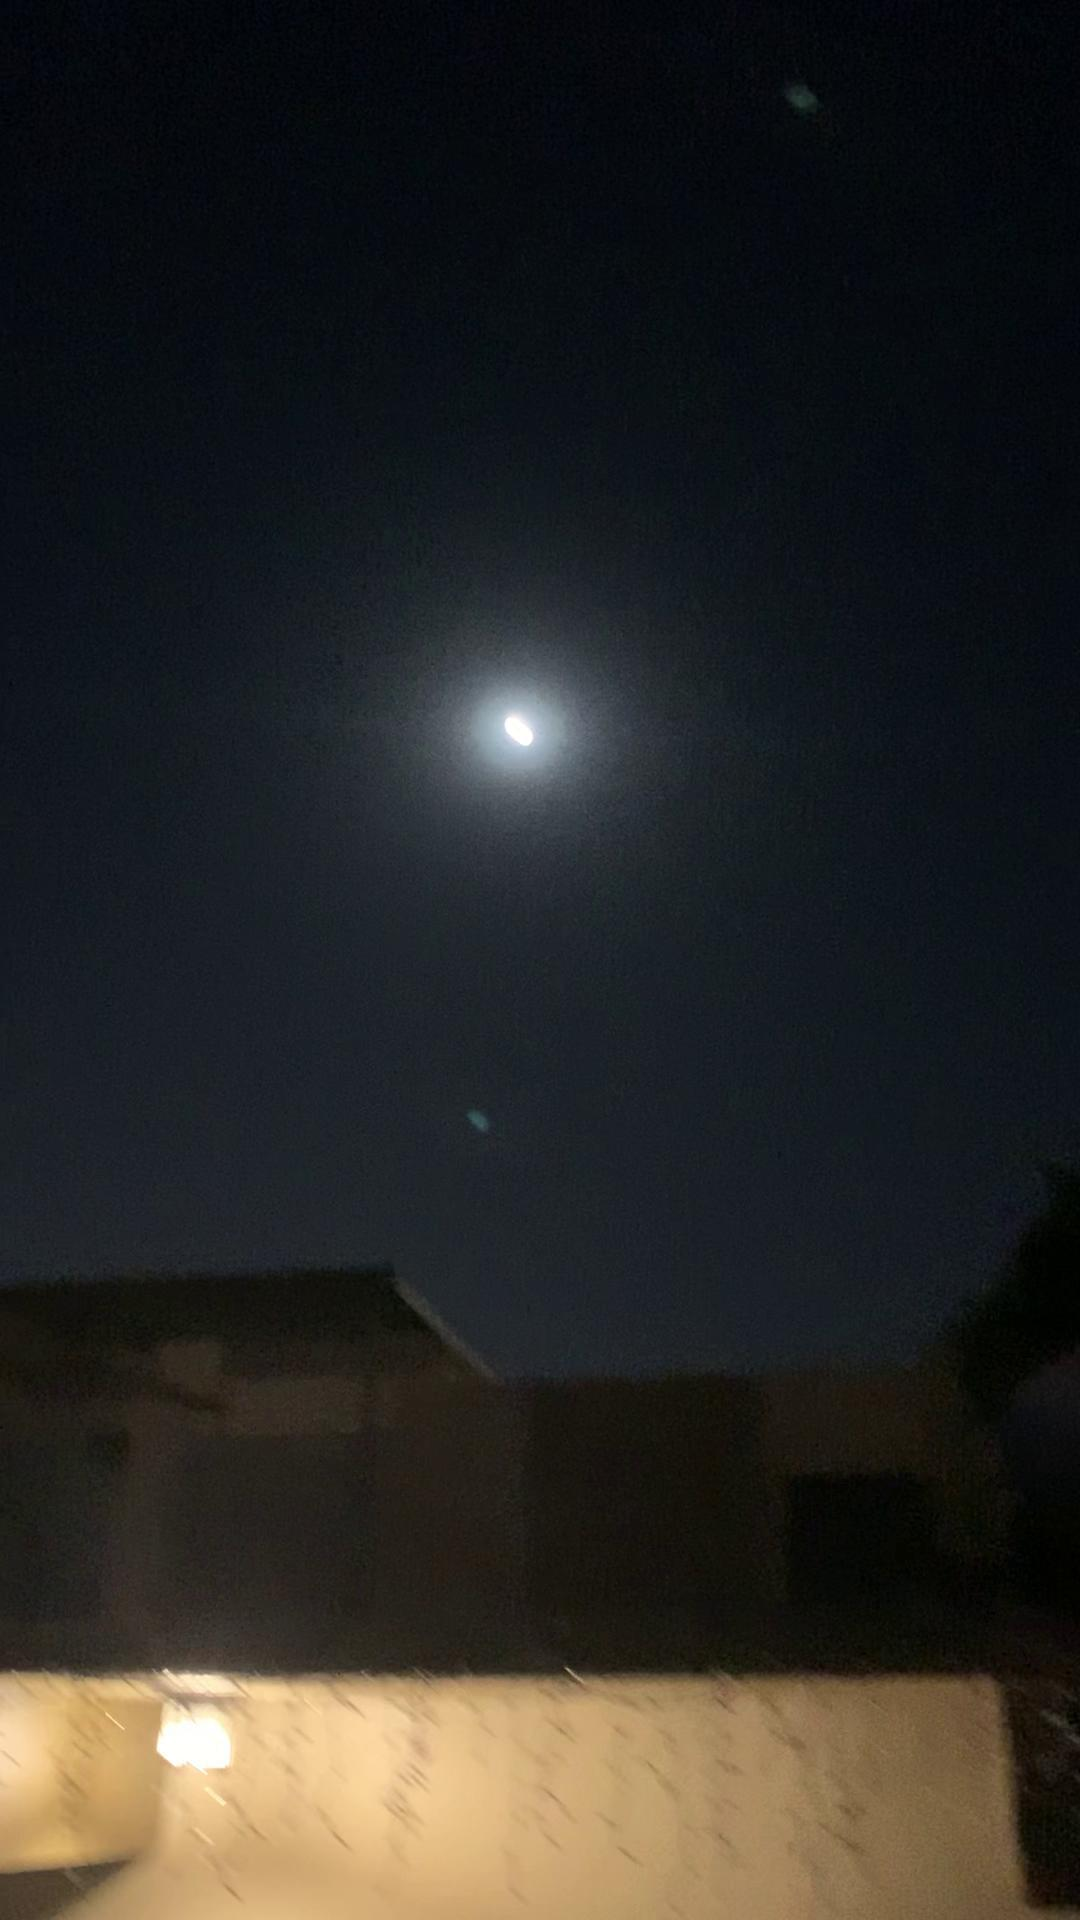moon: (472, 687, 559, 766)
